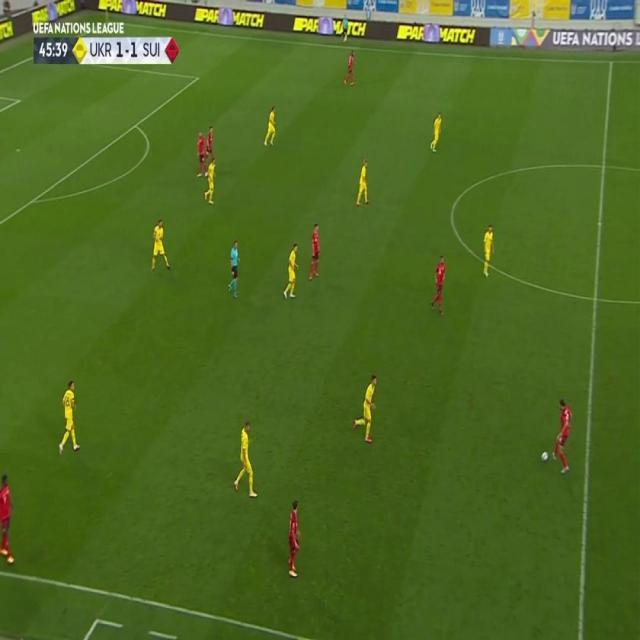ball: (541, 450, 549, 462)
player: (232, 418, 257, 498), (351, 373, 379, 444), (58, 379, 81, 455), (552, 397, 574, 474), (0, 472, 17, 565), (286, 498, 302, 578), (148, 217, 171, 272), (429, 252, 447, 316), (282, 242, 300, 301), (306, 222, 322, 282), (480, 222, 496, 279), (354, 158, 371, 207), (203, 157, 217, 208), (262, 104, 278, 147), (429, 110, 444, 153), (195, 129, 206, 178), (343, 48, 356, 87), (205, 125, 215, 164)
referee: (227, 238, 241, 297), (340, 14, 350, 44)
